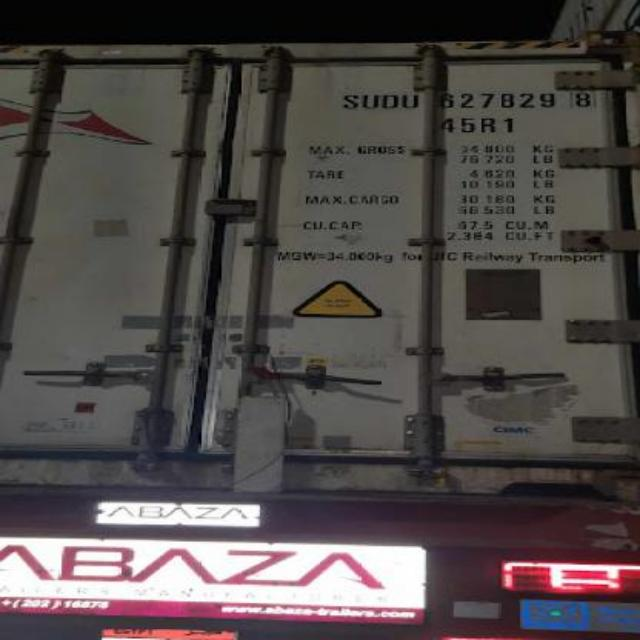2: (458, 92, 476, 108), (518, 92, 536, 108)
6: (432, 94, 460, 108)
7: (480, 92, 496, 108)
8: (568, 92, 598, 110), (498, 91, 518, 109)
9: (542, 90, 556, 112)
D: (384, 92, 398, 110)
S: (340, 94, 360, 110)
U: (361, 92, 382, 112), (401, 92, 422, 112)
